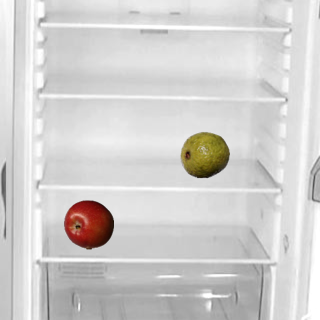Apple Braeburn: (63, 199, 113, 249)
Guava: (179, 129, 229, 179)
